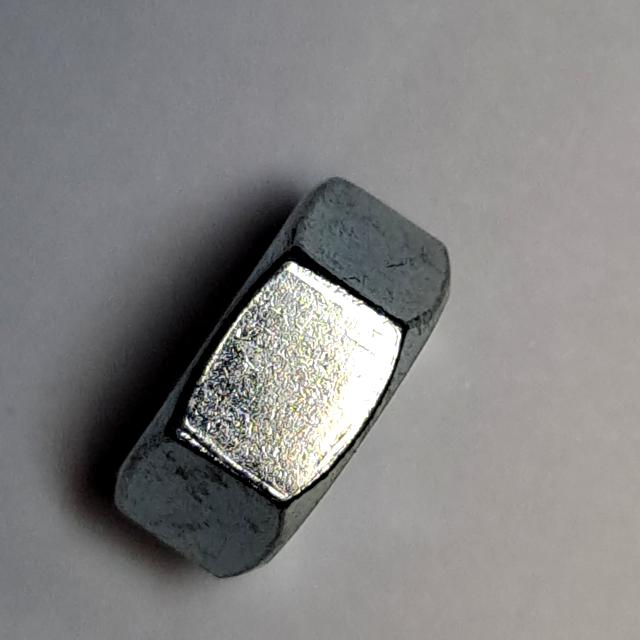Side_Excellent: (94, 151, 496, 601)
